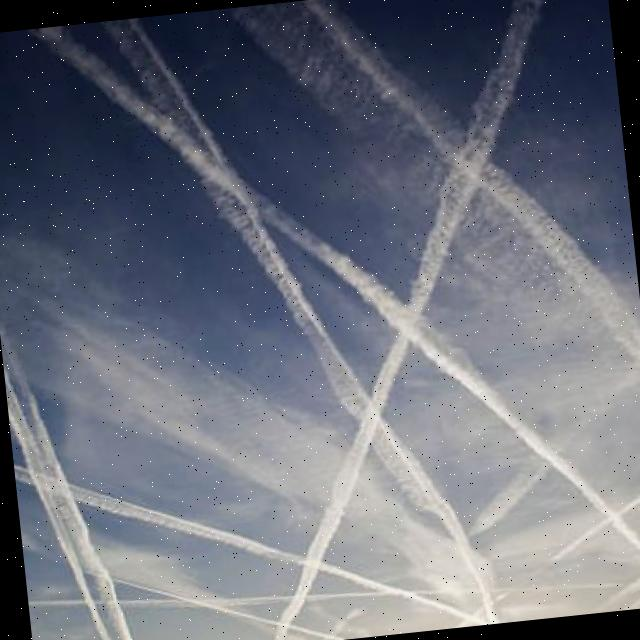Ct: (1, 1, 640, 560)
